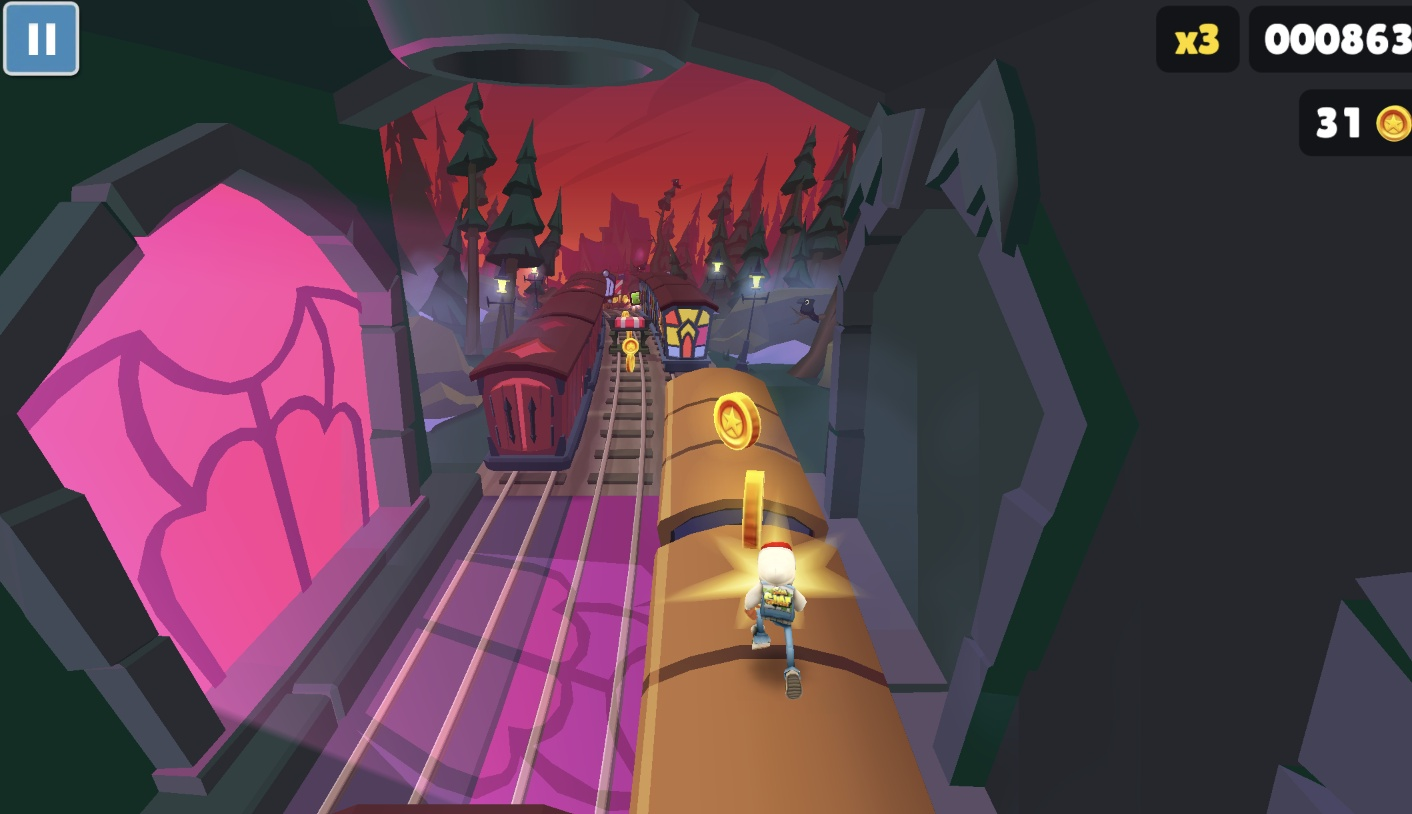ground_barrier: (610, 315, 648, 349)
overhead_barrier: (614, 273, 626, 296)
train: (629, 366, 933, 814), (468, 276, 609, 472), (637, 275, 717, 375), (338, 804, 587, 814)
